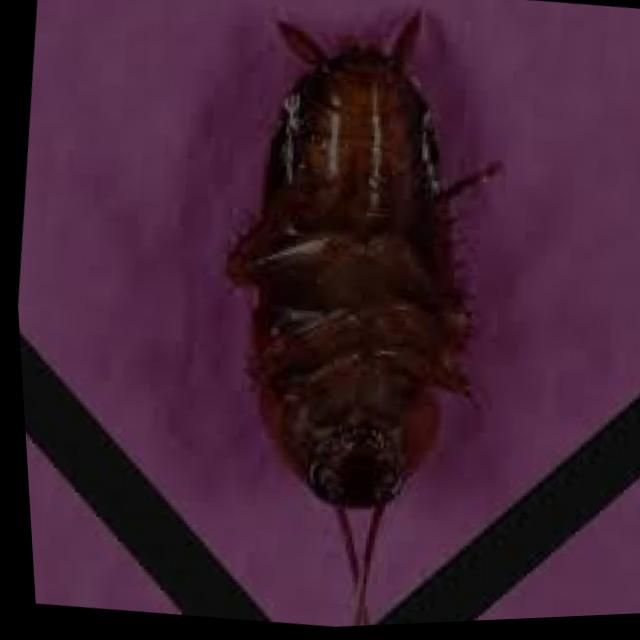Cockroach: (144, 0, 587, 635)
